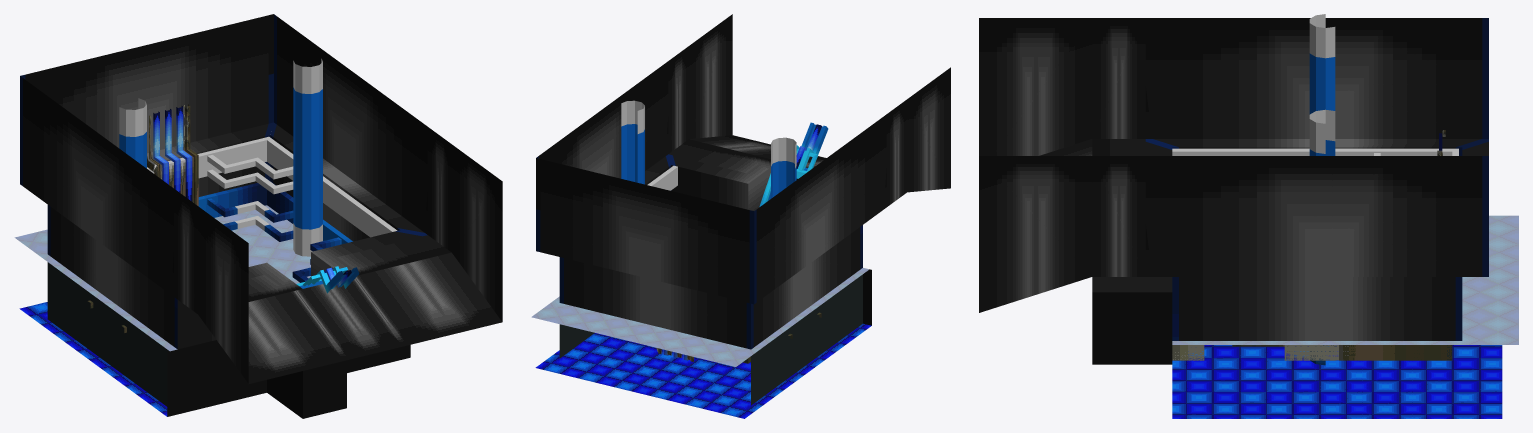
The model's file is BATTLE-GREEN-1.obj.
3 views of the same model, side by side, from view 1: azimuth 30°, elevation 25°; view 2: azimuth 150°, elevation 25°; view 3: azimuth 270°, elevation 25° (orthographic). The views are drawn at different scales.
Parts seen in each view (by area): view 1: polygon2, polygon3, polygon16, polygon0, polygon8, polygon10, polygon1, polygon11, polygon5, polygon15, polygon6, polygon4 (+2 smaller); view 2: polygon2, polygon3, polygon15, polygon16, polygon1, polygon10, polygon0, polygon11, polygon4, polygon8, polygon5; view 3: polygon2, polygon3, polygon15, polygon1, polygon6, polygon0, polygon8, polygon11, polygon10.
Boxes of the visible parts, box(x1,y1,x2,y2) form: polygon2: box(23, 14, 427, 346); polygon3: box(167, 127, 502, 418); polygon16: box(47, 262, 169, 406); polygon0: box(20, 14, 427, 348); polygon8: box(147, 136, 397, 237); polygon10: box(119, 87, 322, 229); polygon1: box(14, 205, 310, 351); polygon11: box(119, 58, 322, 256); polygon5: box(153, 106, 351, 287); polygon15: box(19, 302, 167, 416); polygon6: box(88, 104, 198, 332); polygon4: box(296, 266, 359, 293); polygon2: box(536, 61, 886, 348); polygon3: box(666, 14, 950, 325); polygon15: box(535, 323, 871, 418); polygon16: box(559, 274, 862, 405); polygon1: box(531, 268, 868, 366); polygon10: box(621, 124, 796, 198); polygon0: box(536, 154, 862, 349); polygon11: box(621, 100, 796, 168); polygon4: box(759, 122, 828, 206); polygon8: box(647, 165, 677, 190); polygon5: box(662, 124, 821, 360); polygon2: box(1145, 18, 1488, 340); polygon3: box(979, 18, 1172, 364); polygon15: box(1172, 345, 1502, 418); polygon1: box(1172, 215, 1518, 344); polygon6: box(1172, 130, 1452, 360); polygon0: box(1145, 18, 1488, 340); polygon8: box(1172, 148, 1458, 155); polygon11: box(1309, 14, 1335, 153); polygon10: box(1309, 53, 1335, 155).
Bounding box in the file's own units: 6.12 × 5.88 × 10.12.
